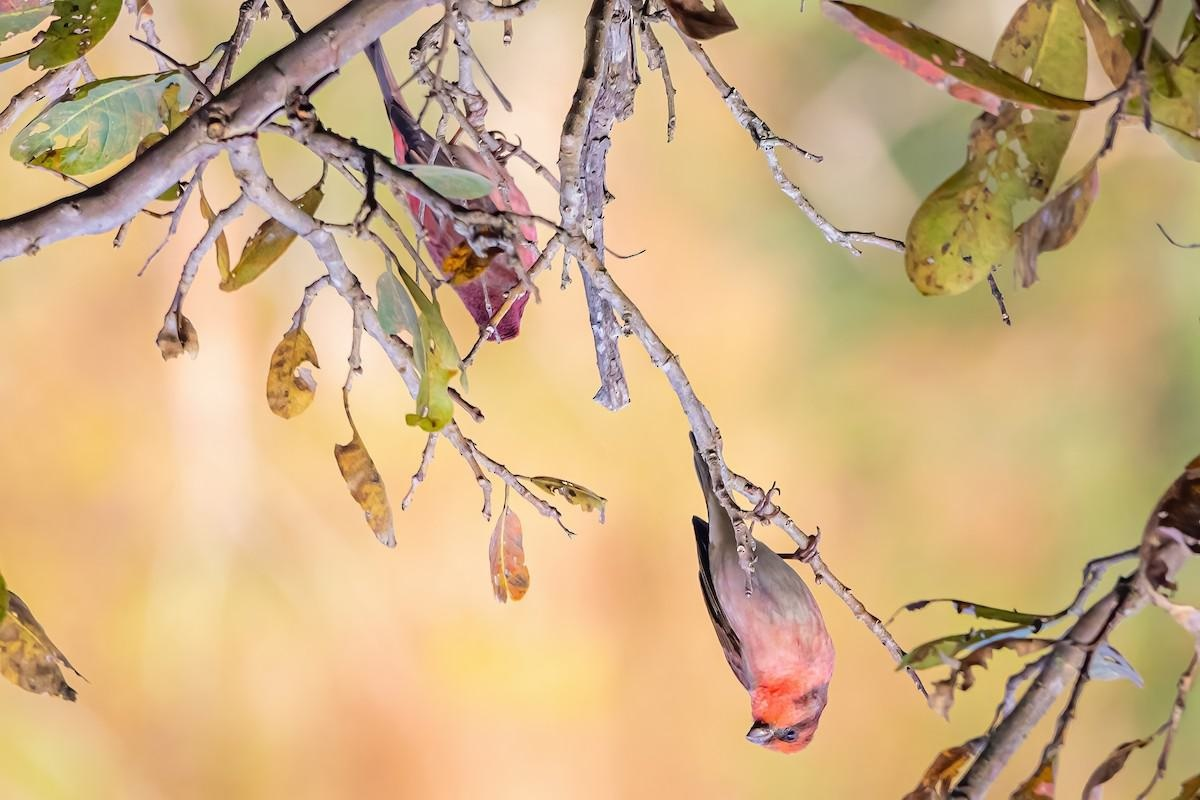rosefinch: (734, 463, 829, 783)
